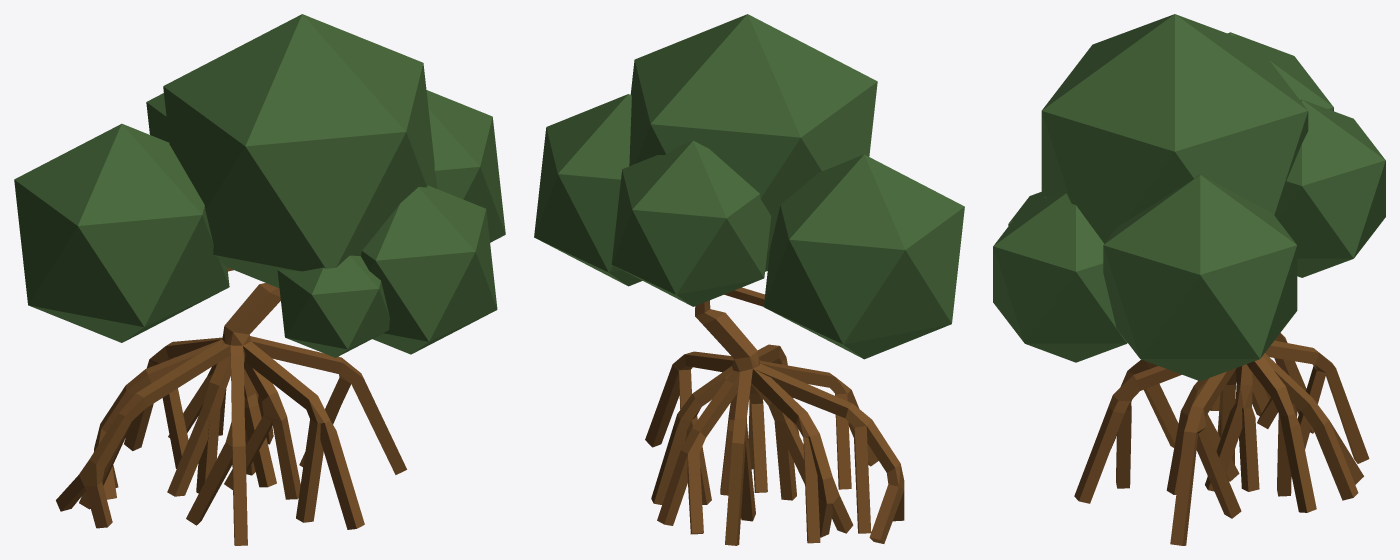
Rendered from Mangrove_Trees.fbx.
3 renders of one model, left to right at view 1: azimuth 30°, elevation 25°; view 2: azimuth 150°, elevation 25°; view 3: azimuth 270°, elevation 25°, orthographic. The views are drawn at different scales.
Visible parts, largest first — view 1: Cube; view 2: Cube; view 3: Cube.
Part boxes in pixels (left/top/right/bottom): Cube: left=14, top=14, right=505, bottom=545; Cube: left=534, top=14, right=964, bottom=545; Cube: left=993, top=14, right=1385, bottom=545.
Bounding box in the file's own units: 8.7 × 8.98 × 6.57.
